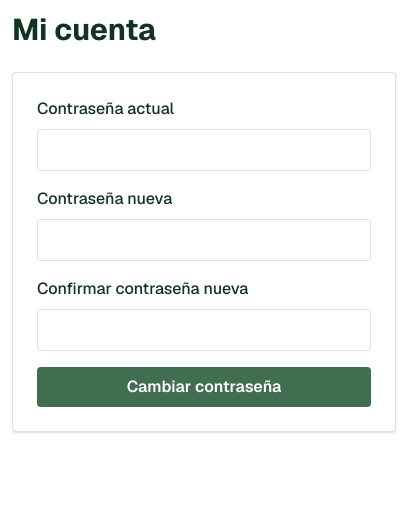
Test case: AccountPage › no envía la request si la contraseña nueva es menor a 8 caracteres
This screenshot has width=413, height=532.
Type "current-pass" into the password field labelled "Contraseña actual".
click(204, 150); type("current-pass")  # box [37,129,371,171]
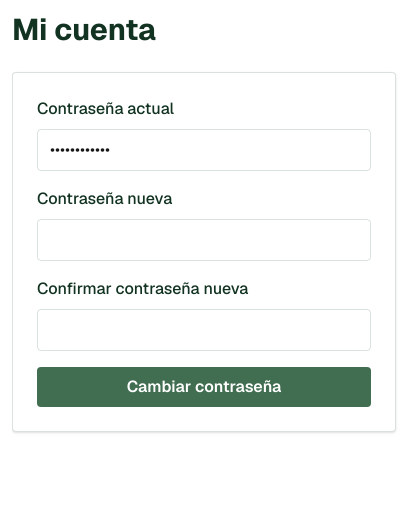
Type "short" into the password field labelled "Contraseña nueva".
click(204, 240); type("short")  # box [37,219,371,261]
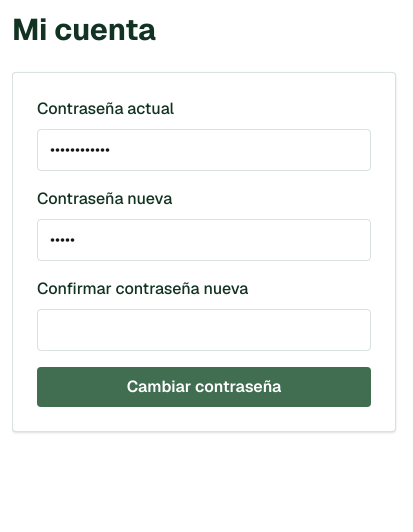
Type "short" into the password field labelled "Confirmar contraseña nueva".
click(204, 330); type("short")  # box [37,309,371,351]
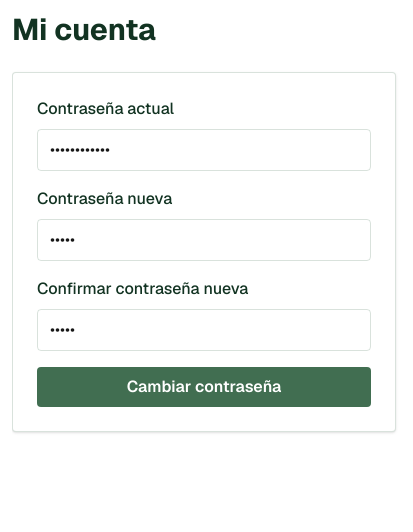
Click the button "Cambiar contraseña".
click(204, 387)  # box [37,367,371,407]
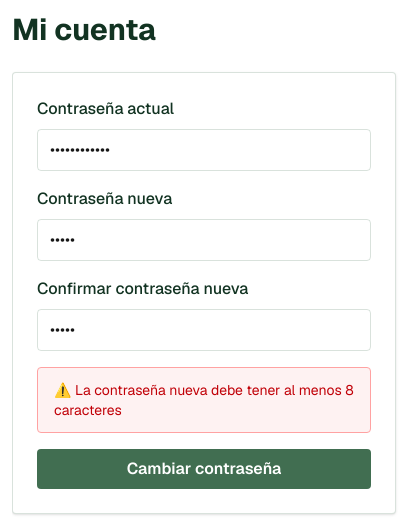
Expected: the message shows "al menos 8 caracteres", [54,381,354,419]
